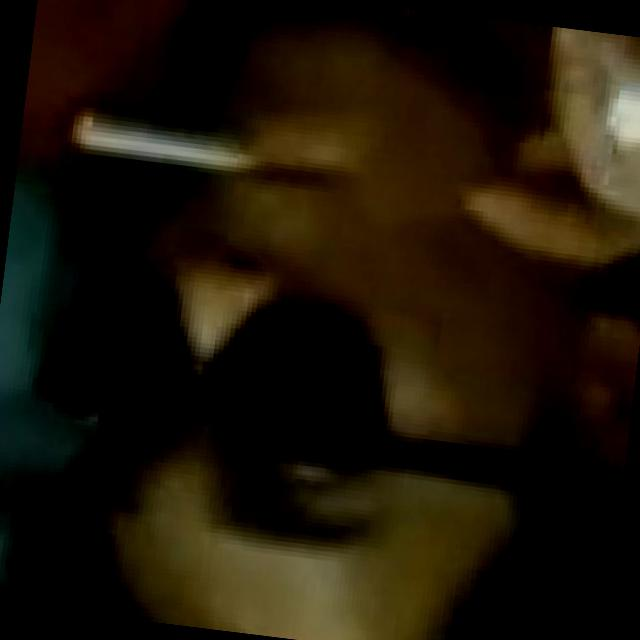smoke: (54, 109, 268, 184)
